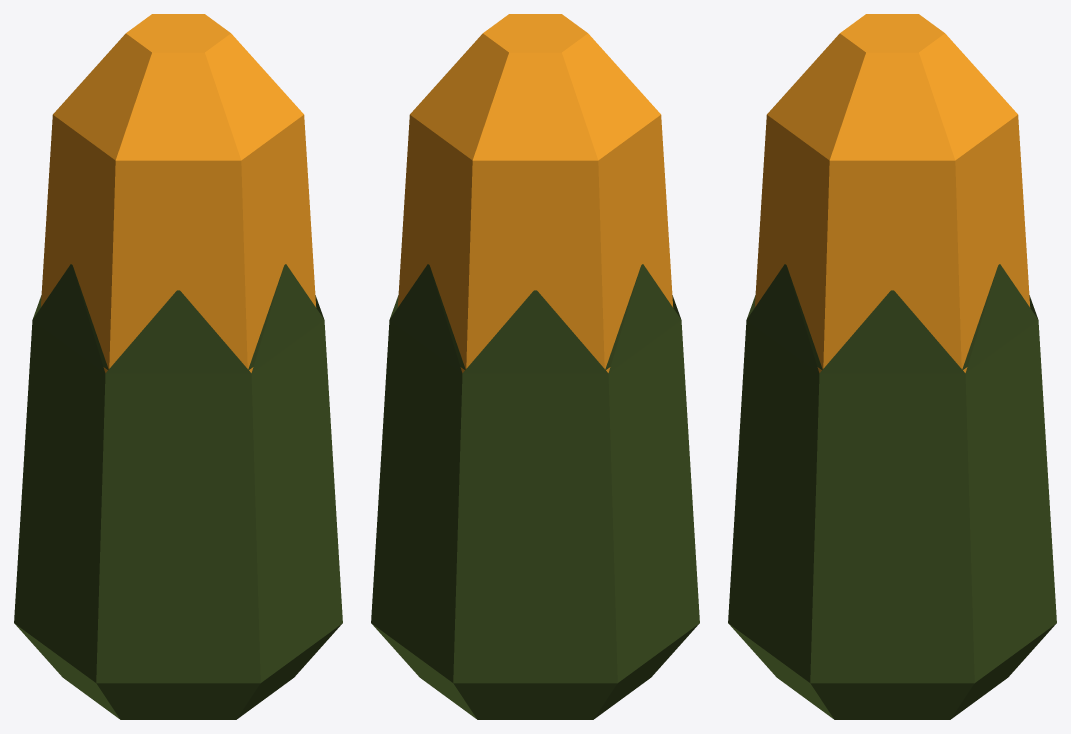
The model's file is Corn_5.fbx.
3 renders of one model, left to right at view 1: azimuth 30°, elevation 25°; view 2: azimuth 150°, elevation 25°; view 3: azimuth 270°, elevation 25°, orthographic.
Visible parts, largest first — view 1: Corn_5; view 2: Corn_5; view 3: Corn_5.
Boxes of the visible parts, x1,y1,x2,y2 form: Corn_5: (14, 14, 342, 719); Corn_5: (371, 14, 699, 719); Corn_5: (728, 14, 1056, 719).
Size of the model in its own units: 14.44 by 36.03 by 16.67.
